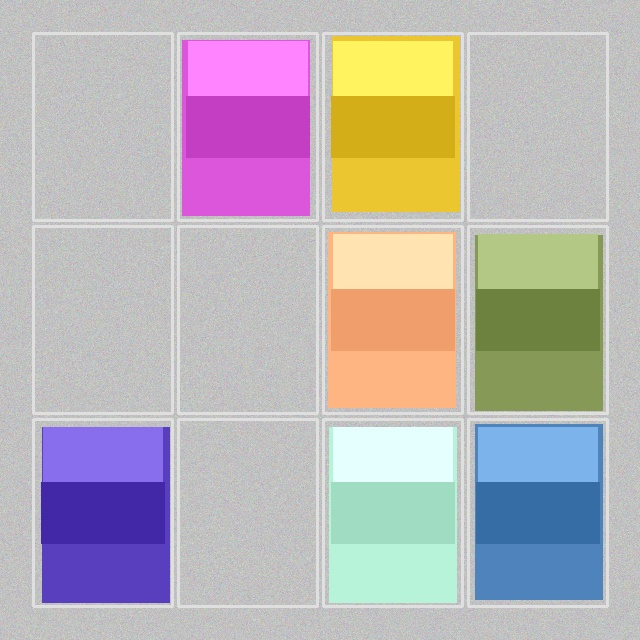space-empty: (35, 35, 170, 218), (470, 35, 605, 218), (35, 228, 170, 411), (180, 228, 315, 411), (180, 421, 315, 604)
space-occupied: (180, 35, 315, 218), (325, 35, 460, 218), (325, 228, 460, 411), (470, 228, 605, 411), (35, 421, 170, 604), (325, 421, 460, 604), (470, 421, 605, 604)
